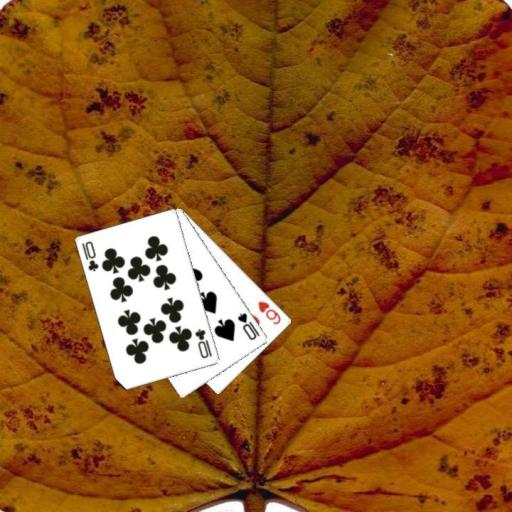10C: (79, 238, 100, 273), (192, 326, 213, 360)
10S: (235, 309, 262, 342)
6H: (256, 298, 283, 326)
